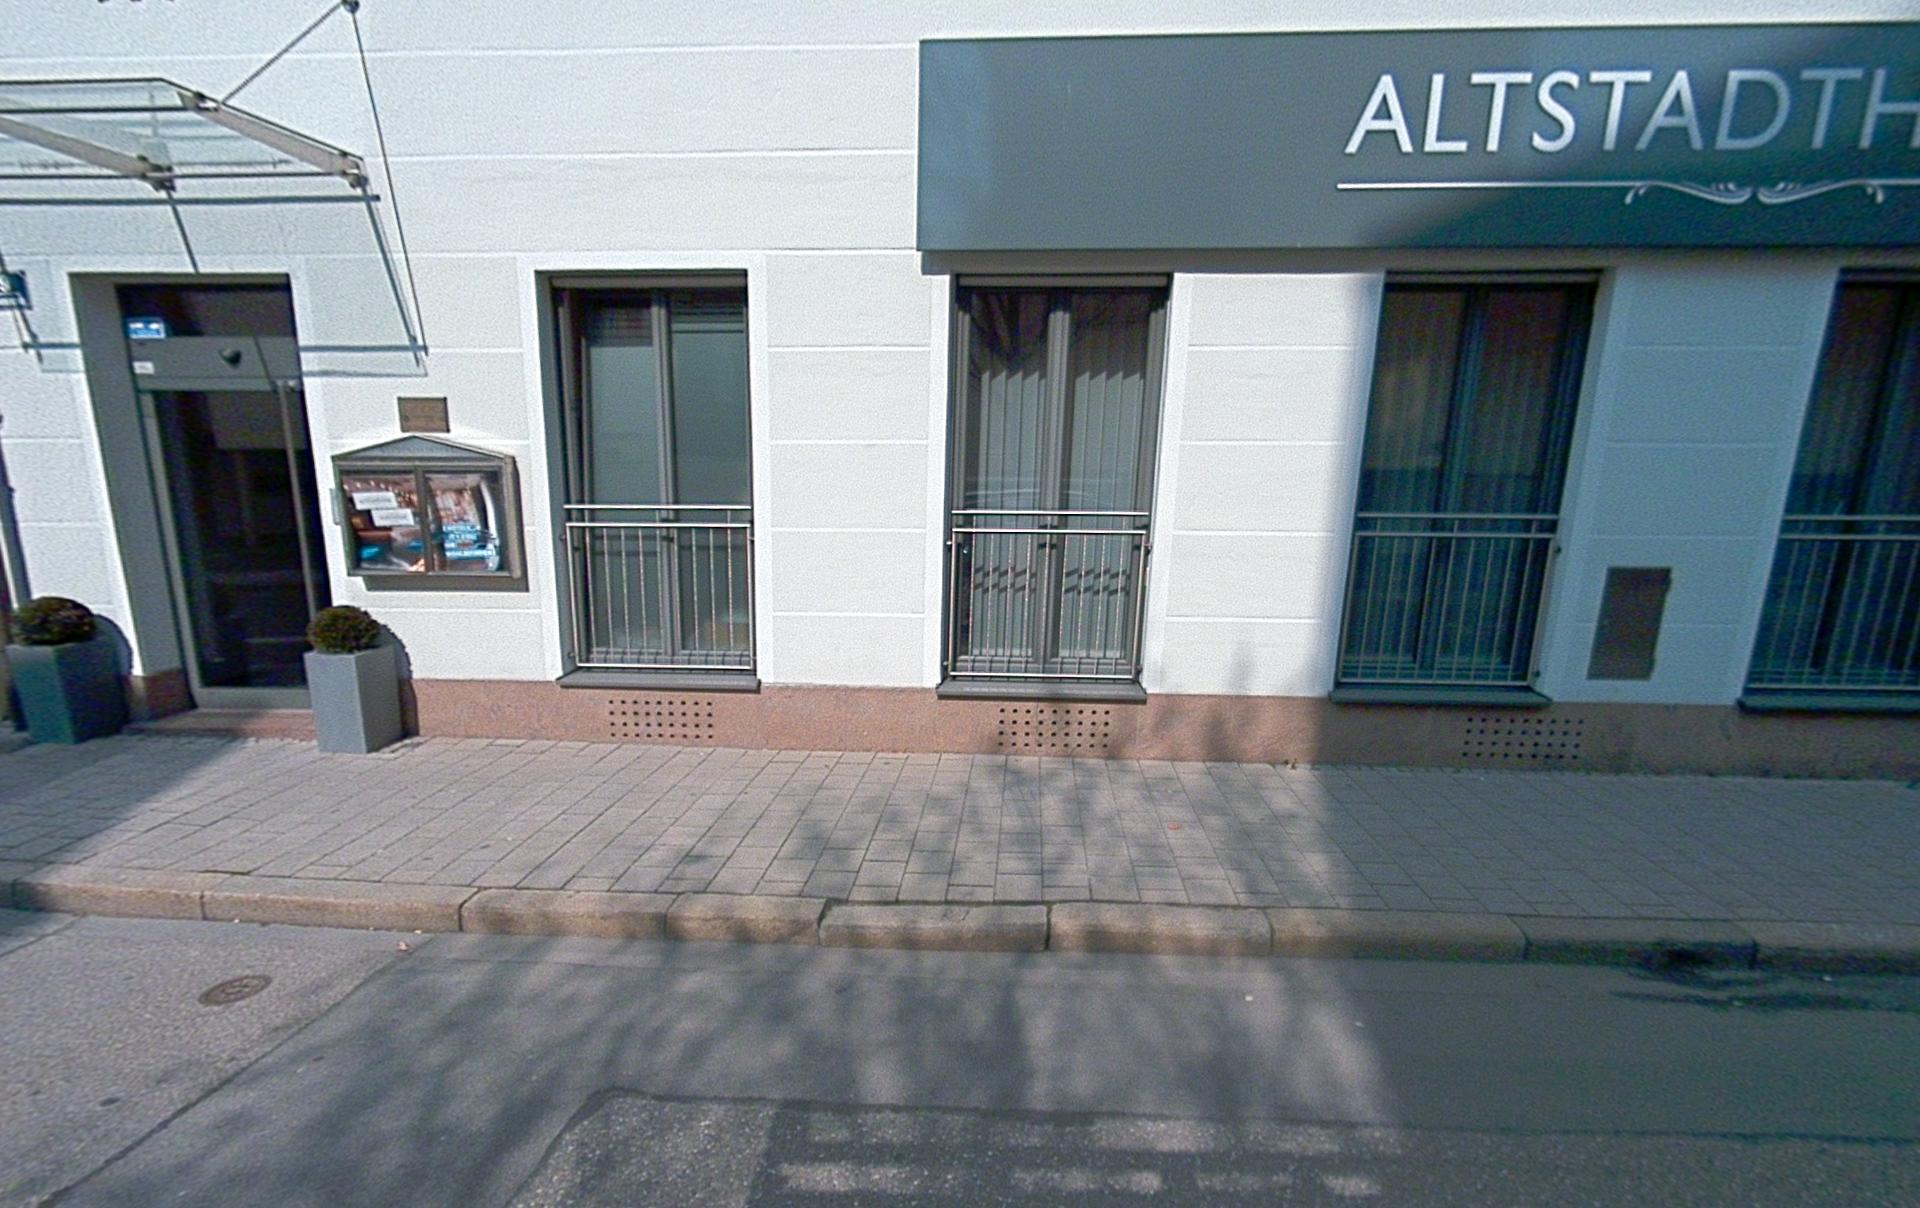traffic sign: (915, 19, 1919, 253)
